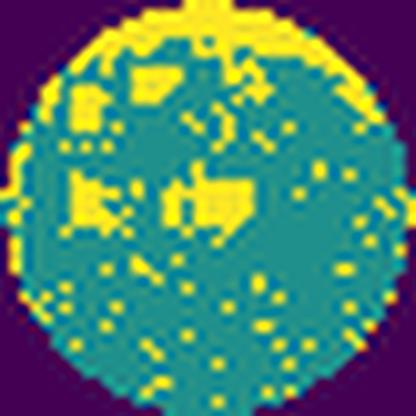Edge-Loc: (70, 0, 394, 125), (33, 78, 64, 121)
